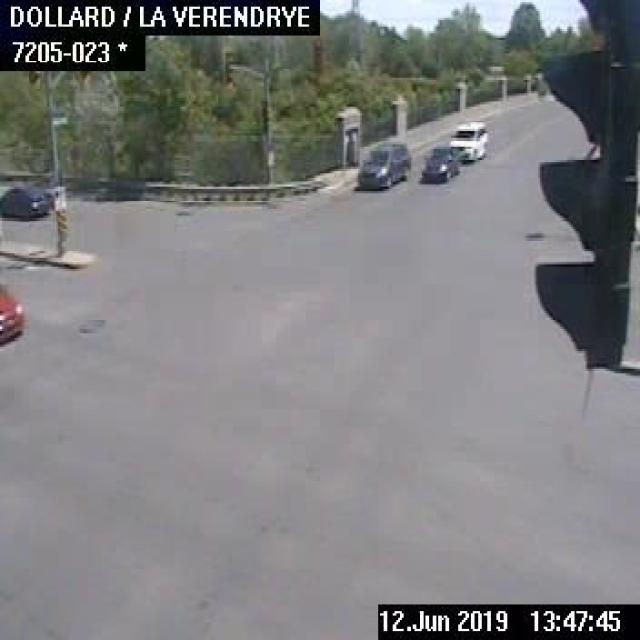vehicle: (355, 138, 409, 189), (0, 178, 53, 218), (0, 266, 27, 344), (446, 116, 485, 160), (418, 146, 462, 182)
